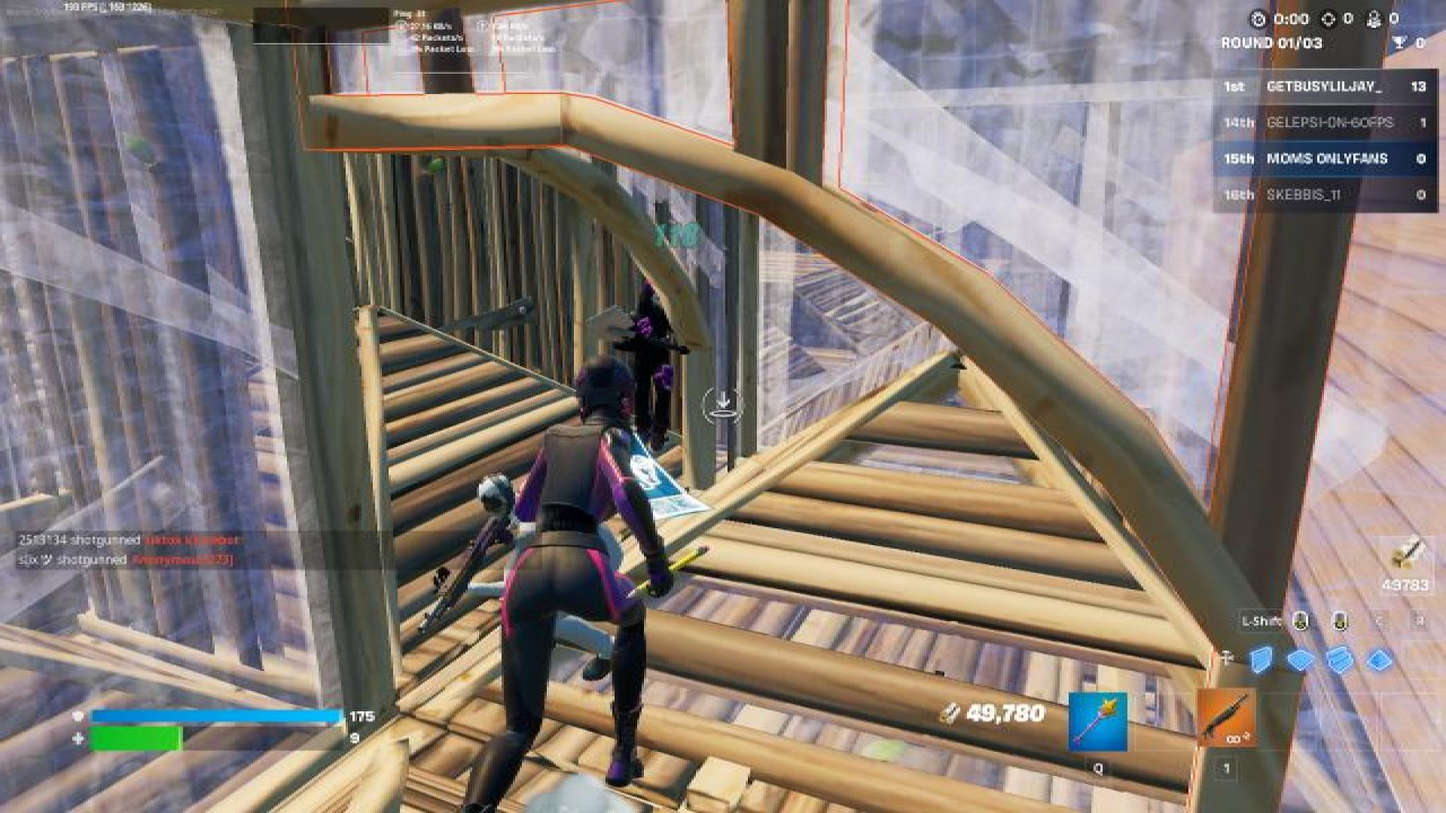player: (598, 272, 695, 455)
